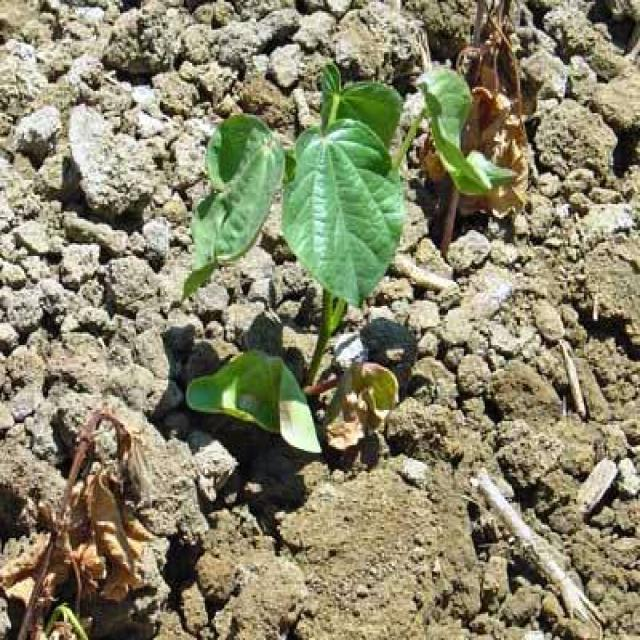Fusarium Wilt: (59, 105, 559, 640)
